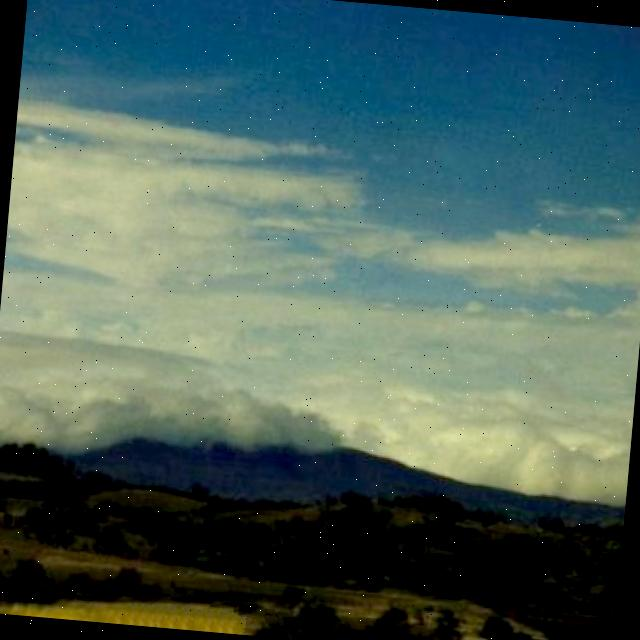Sc: (1, 70, 640, 464)
